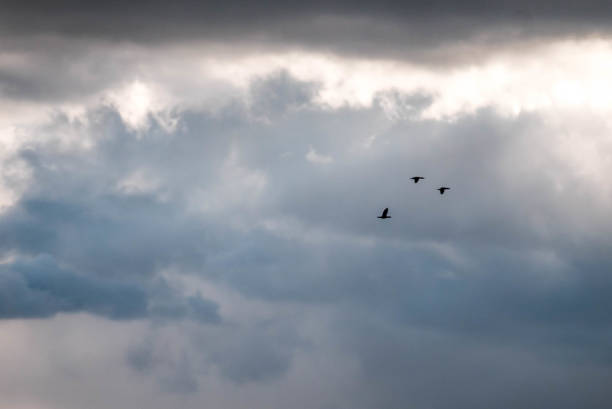goose: (375, 206, 392, 220), (408, 174, 425, 185), (434, 185, 452, 195)
